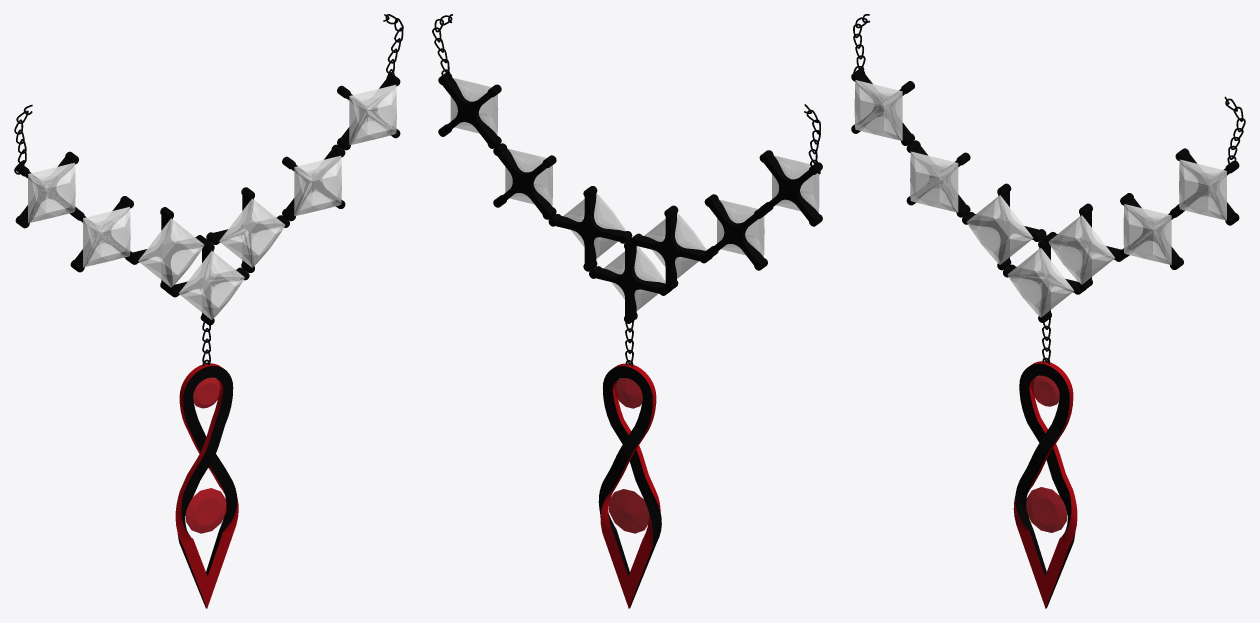
Rendered from inked_pendant.glb.
3 views of the same model, side by side, from view 1: azimuth 30°, elevation 25°; view 2: azimuth 150°, elevation 25°; view 3: azimuth 330°, elevation 25° (orthographic).
Visible parts, largest first — view 1: Object_8, Object_5, Object_7, Object_6, Object_2, Object_3; view 2: Object_5, Object_8, Object_7, Object_6, Object_2, Object_3; view 3: Object_8, Object_5, Object_7, Object_6, Object_2, Object_3.
Boxes of the visible parts, <box> form: Object_8: <box>28,85,396,319</box>; Object_5: <box>15,74,400,325</box>; Object_7: <box>177,366,237,608</box>; Object_6: <box>175,363,238,608</box>; Object_2: <box>185,377,226,533</box>; Object_3: <box>14,14,403,366</box>; Object_5: <box>438,73,822,323</box>; Object_8: <box>450,78,819,310</box>; Object_7: <box>598,366,661,608</box>; Object_6: <box>600,363,660,608</box>; Object_2: <box>609,378,649,533</box>; Object_3: <box>432,14,820,366</box>; Object_8: <box>854,80,1226,317</box>; Object_5: <box>851,69,1239,322</box>; Object_7: <box>1015,363,1075,608</box>; Object_6: <box>1013,361,1077,608</box>; Object_2: <box>1026,375,1067,532</box>; Object_3: <box>853,14,1245,364</box>.
Bounding box in the file's own units: 0.0629 × 0.0853 × 0.00468.
6 materials, 5 textured.
